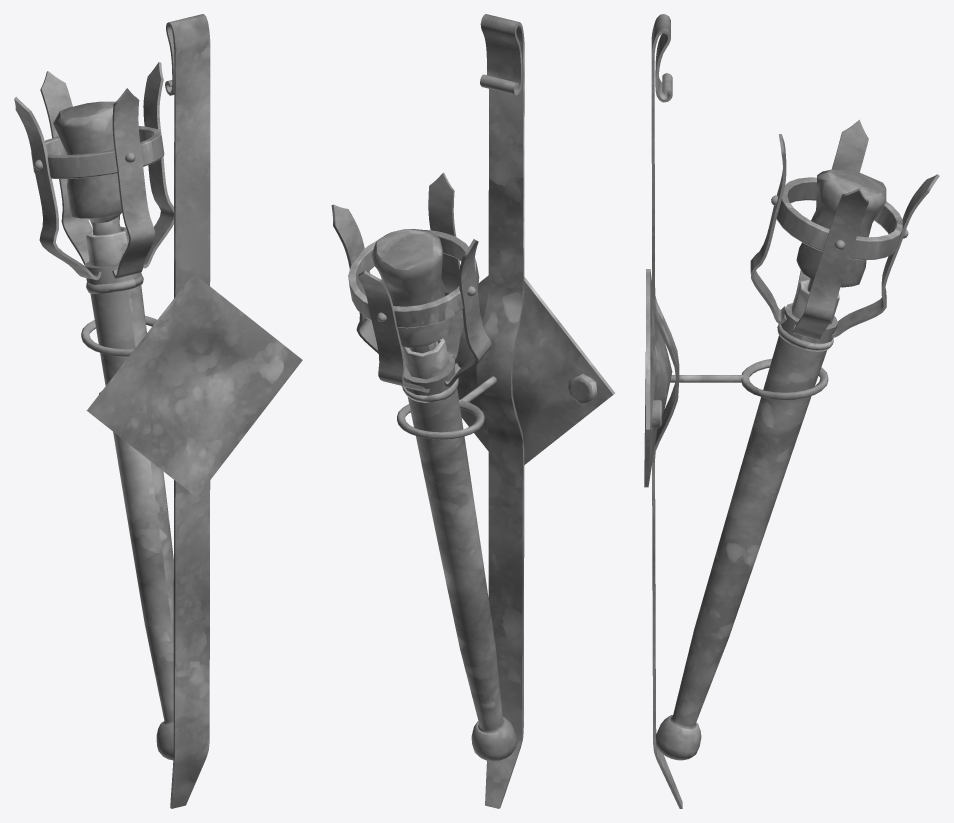
File: SM_TorchLight_01a.fbx
3 views of the same model, side by side, from view 1: azimuth 30°, elevation 25°; view 2: azimuth 150°, elevation 25°; view 3: azimuth 270°, elevation 25° (orthographic).
Visible parts, largest first — view 1: SM_TorchLight_01a_LOD0; view 2: SM_TorchLight_01a_LOD0; view 3: SM_TorchLight_01a_LOD0.
Part boxes in pixels (x1=…): SM_TorchLight_01a_LOD0: x1=14, y1=14, x2=302, y2=808; SM_TorchLight_01a_LOD0: x1=331, y1=14, x2=614, y2=808; SM_TorchLight_01a_LOD0: x1=644, y1=14, x2=939, y2=808.
Bounding box in the file's own units: 46.06 × 55.92 × 163.
